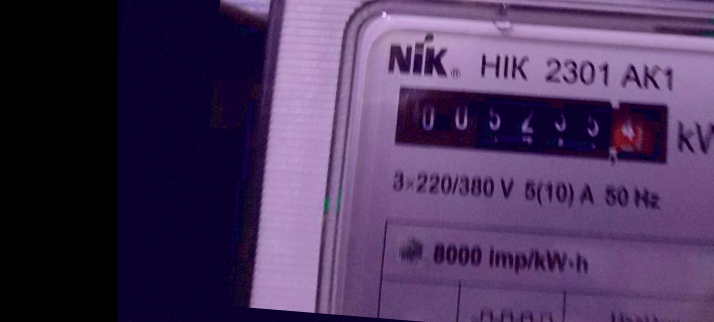0: (450, 98, 473, 133), (418, 100, 438, 132)
2: (516, 101, 540, 136)
3: (548, 101, 575, 136)
4: (617, 107, 642, 144)
5: (582, 103, 607, 141), (484, 99, 506, 133)
screen: (377, 68, 685, 179)
